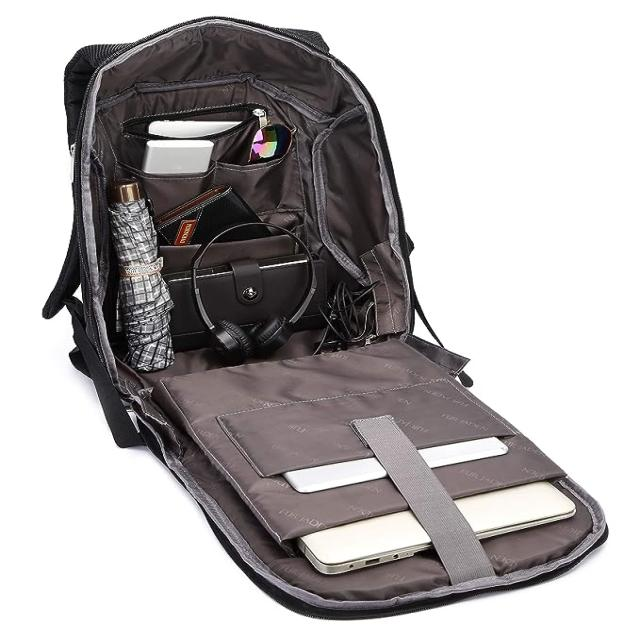backpack: (43, 15, 610, 621)
